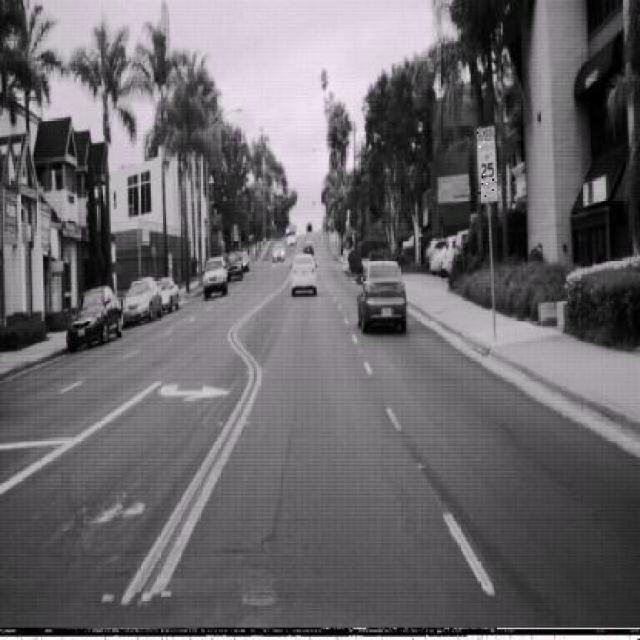schoolSpeedLimit25: (476, 124, 498, 204)
